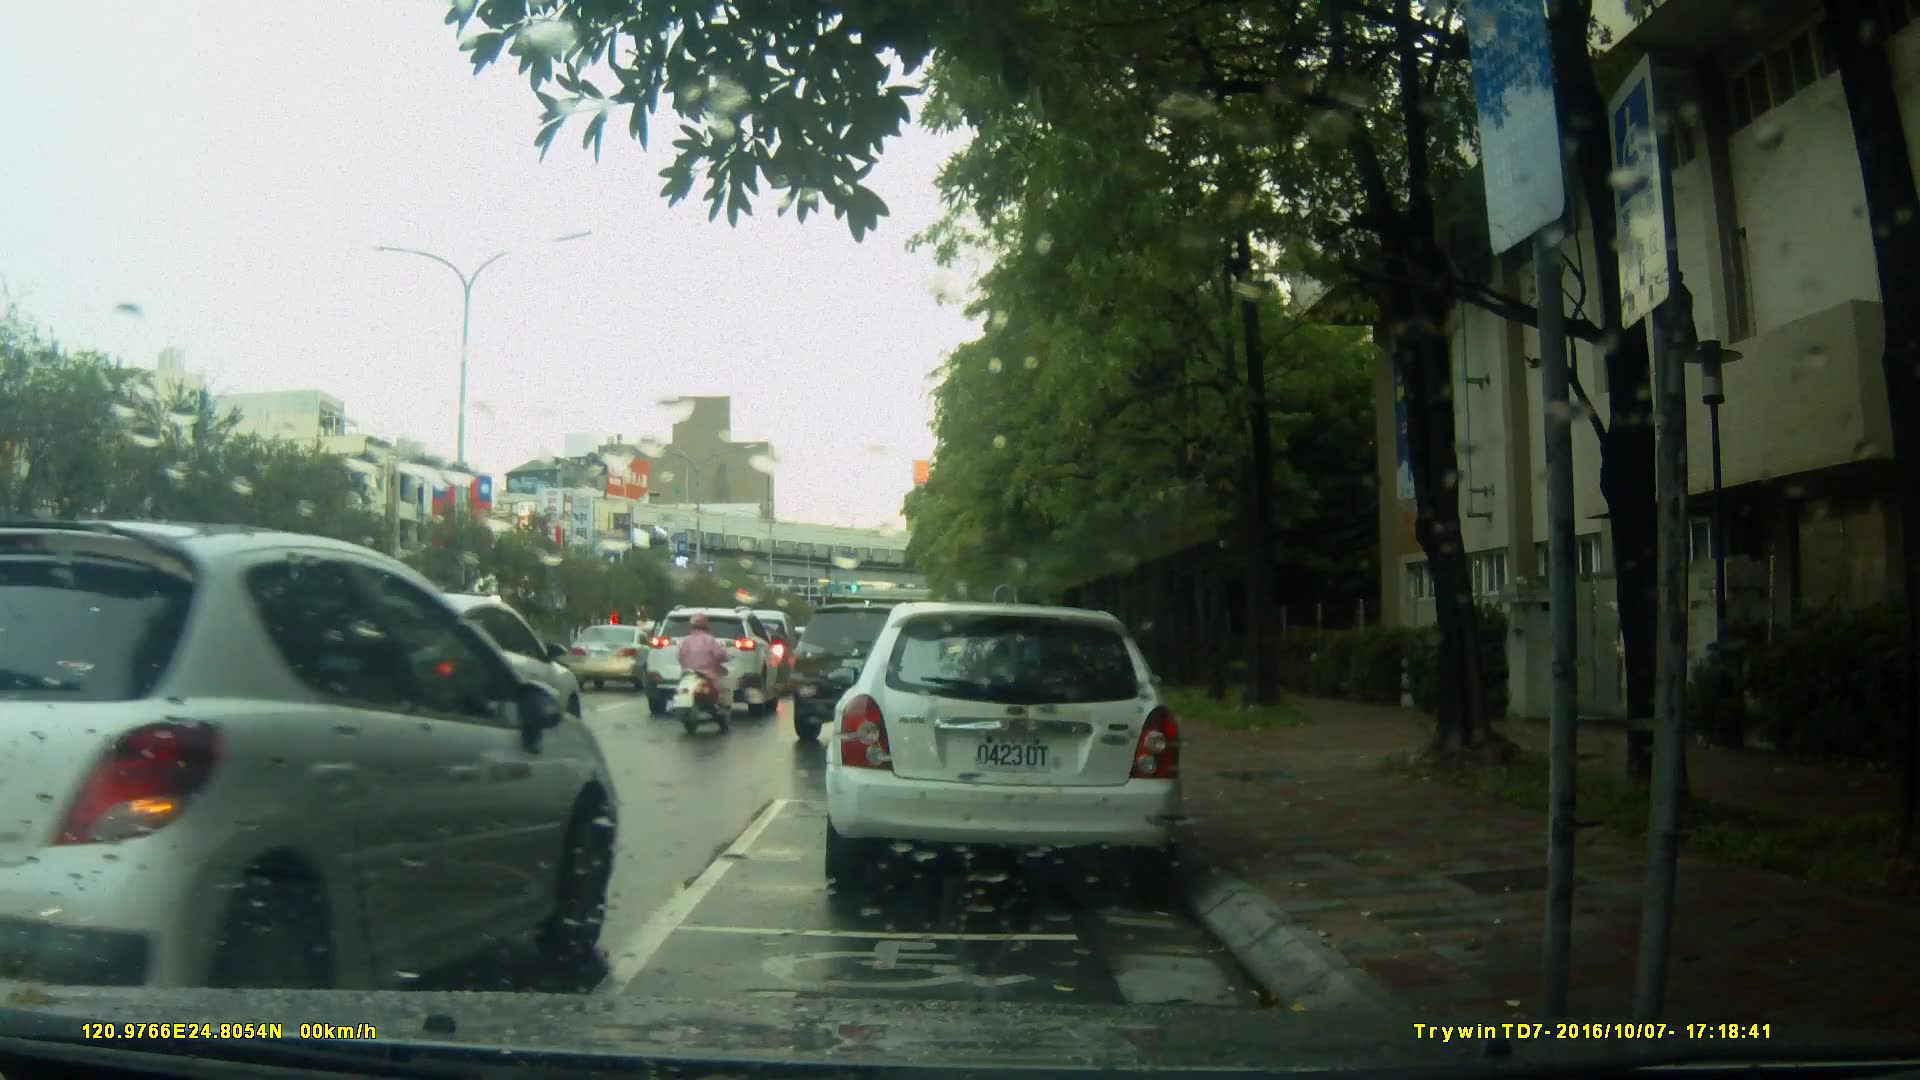rider: (671, 607, 734, 741)
vehicle: (1, 513, 631, 993), (820, 602, 1188, 898), (787, 601, 1000, 753), (645, 607, 784, 720), (561, 622, 665, 693)
